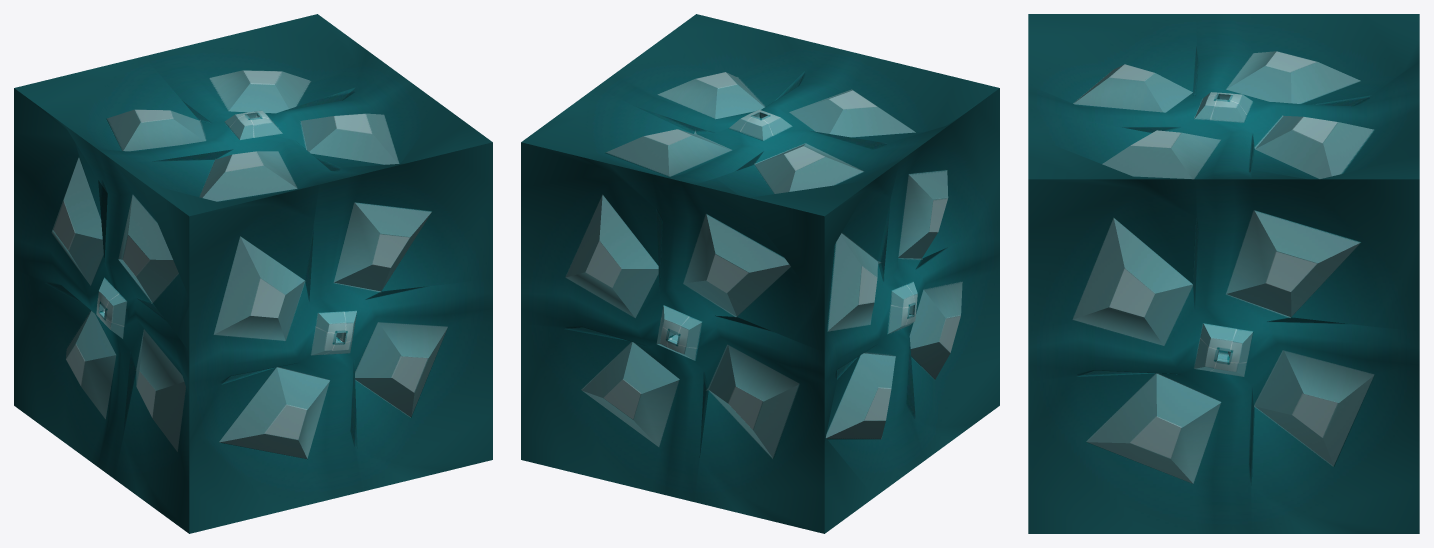
Rendered from finalCube.fbx.
3 views of the same model, side by side, from view 1: azimuth 30°, elevation 25°; view 2: azimuth 150°, elevation 25°; view 3: azimuth 270°, elevation 25° (orthographic). The views are drawn at different scales.
Visible parts, largest first — view 1: polySurface1; view 2: polySurface1; view 3: polySurface1.
Boxes of the visible parts, box(x1,y1,x2,y2) form: polySurface1: box(14, 14, 492, 533); polySurface1: box(521, 14, 999, 533); polySurface1: box(1028, 14, 1419, 533).
Size of the model in its own units: 1 by 1 by 1.
